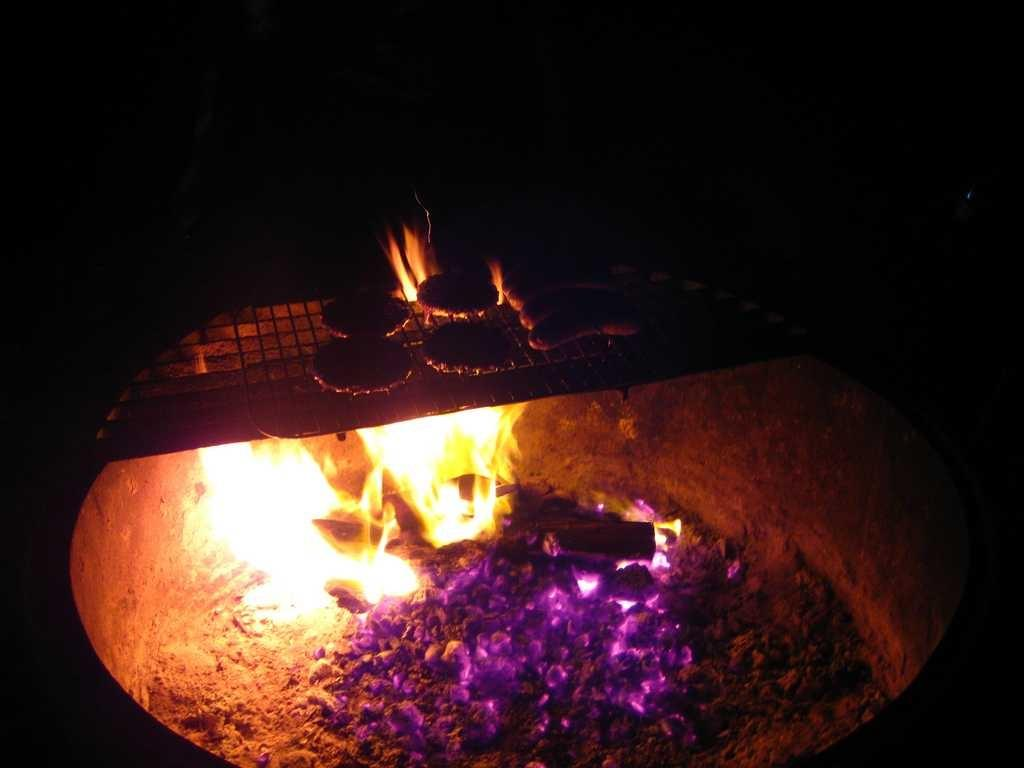fire: (200, 456, 308, 578), (400, 414, 510, 492)
